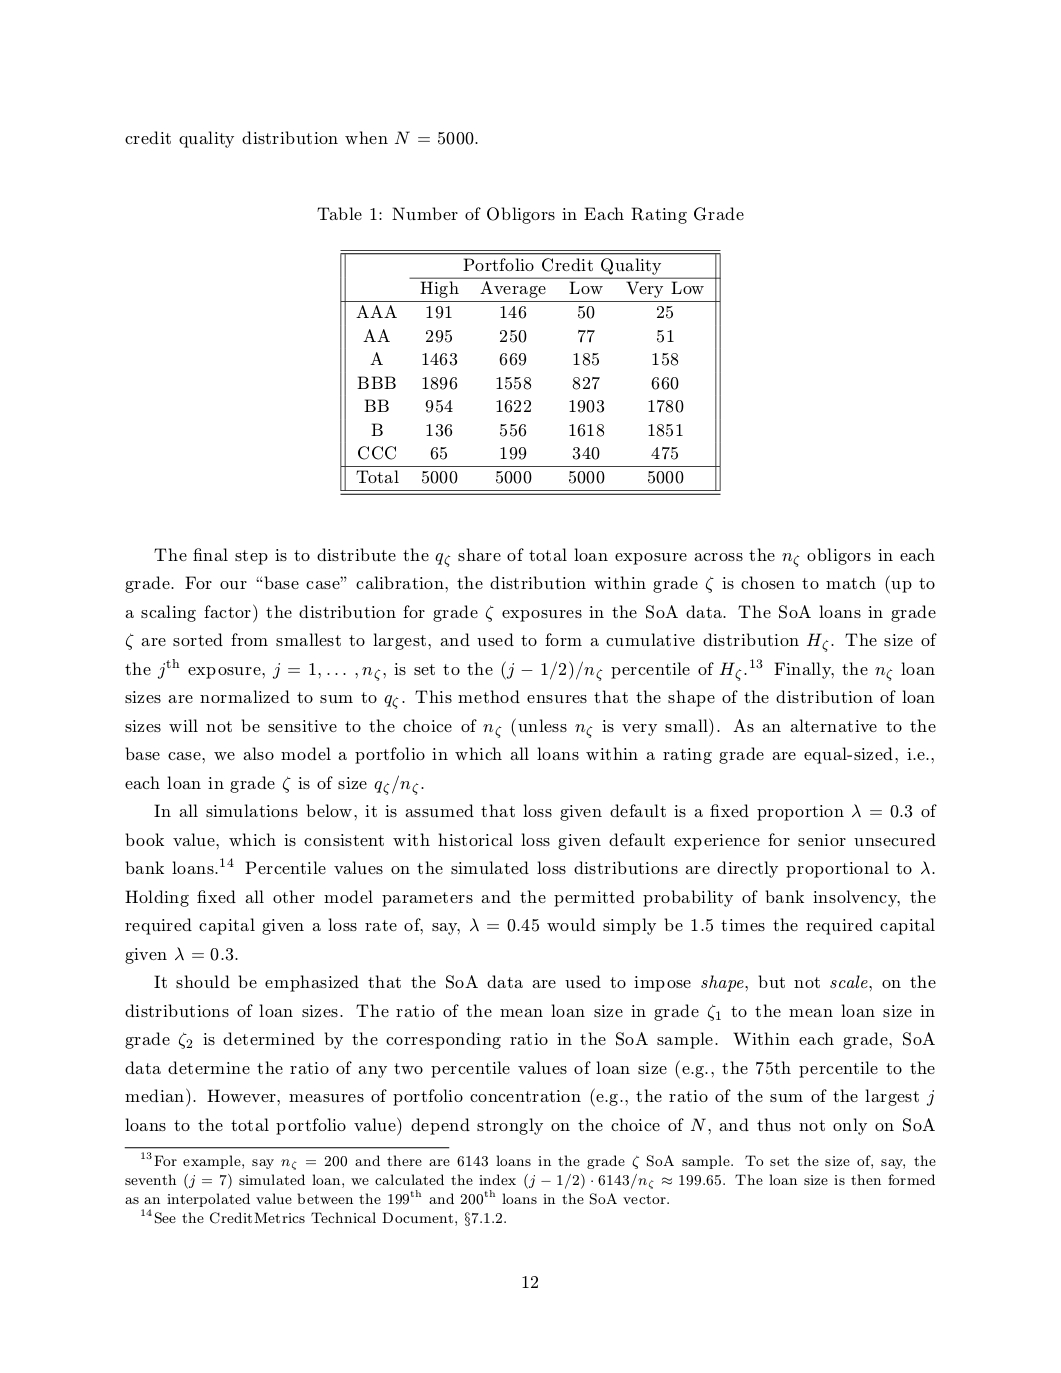Table: (340, 249, 720, 495)
